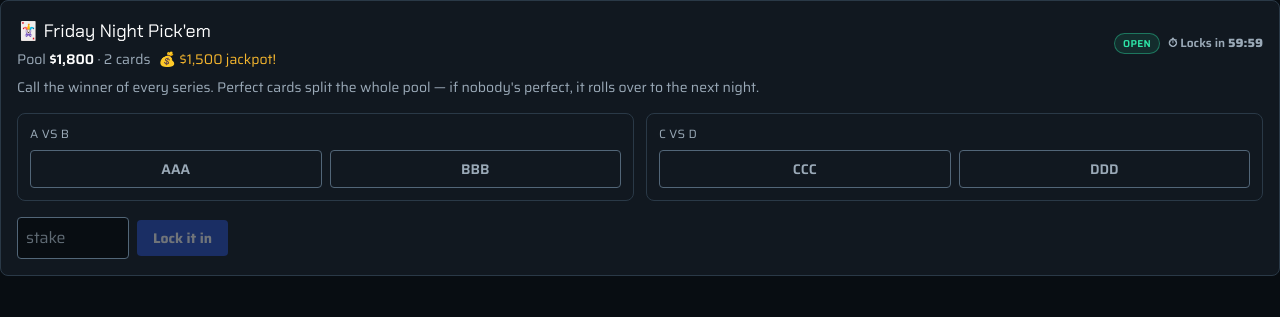
Test case: PickemPanel › disables submit until every leg is picked, then submits picks + amount
Expected: the button "Lock it in" is disabled, [137,220,228,256]
Click the button "AAA".
click(176, 169)  # box [30,150,322,188]
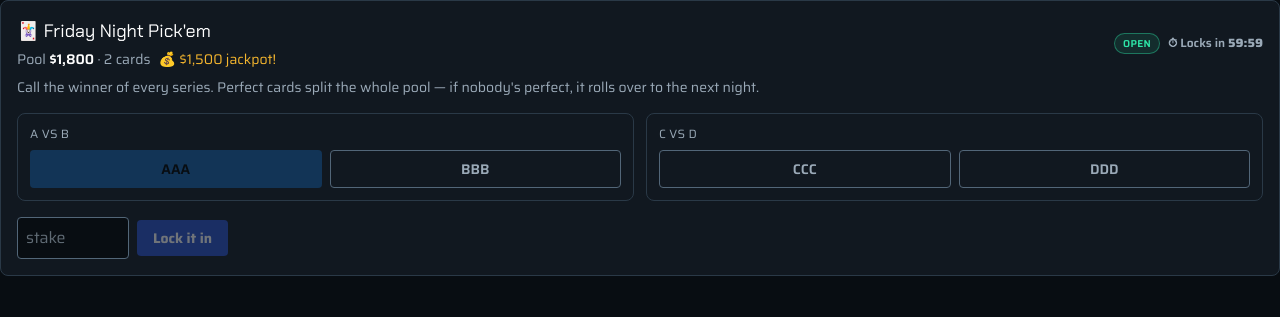
Expected: the button "Lock it in" is disabled, [137,220,228,256]
Click the button "DDD".
click(1104, 169)  # box [958,150,1250,188]
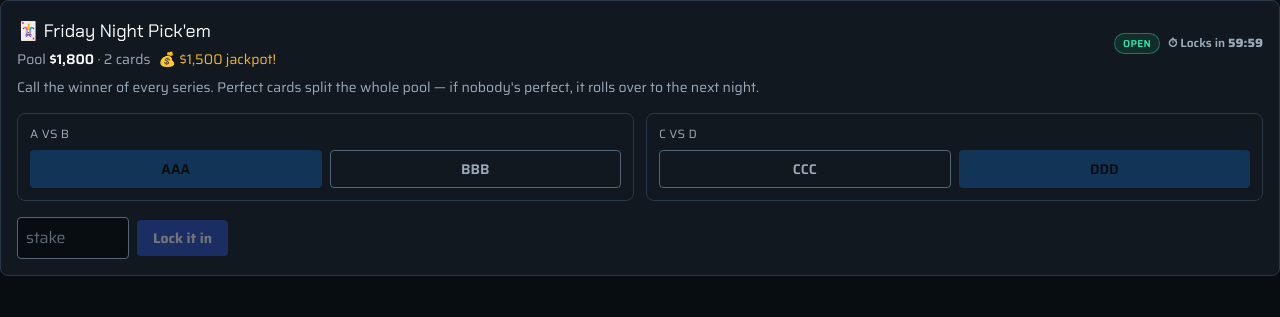
Expected: the button "Lock it in" is disabled, [137,220,228,256]
Type "300" into the number field named "card amount".
click(73, 238); type("300")  # box [17,217,129,259]
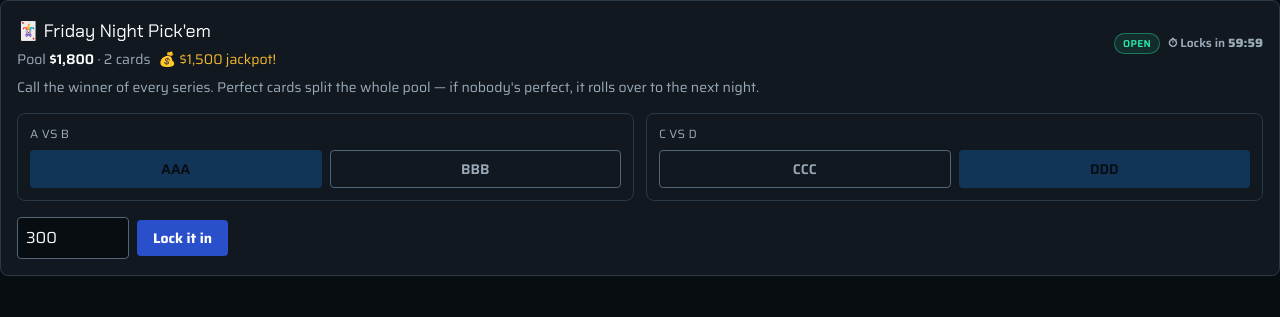
Now the button "Lock it in" is enabled
Click the button "Lock it in".
click(183, 238)  # box [137,220,228,256]
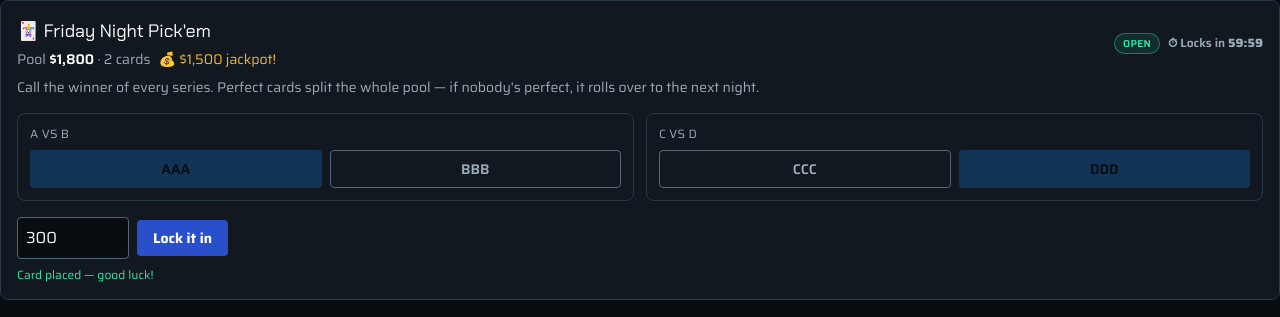
Now the text "Card placed — good luck!" is shown, box [17,265,153,284]
